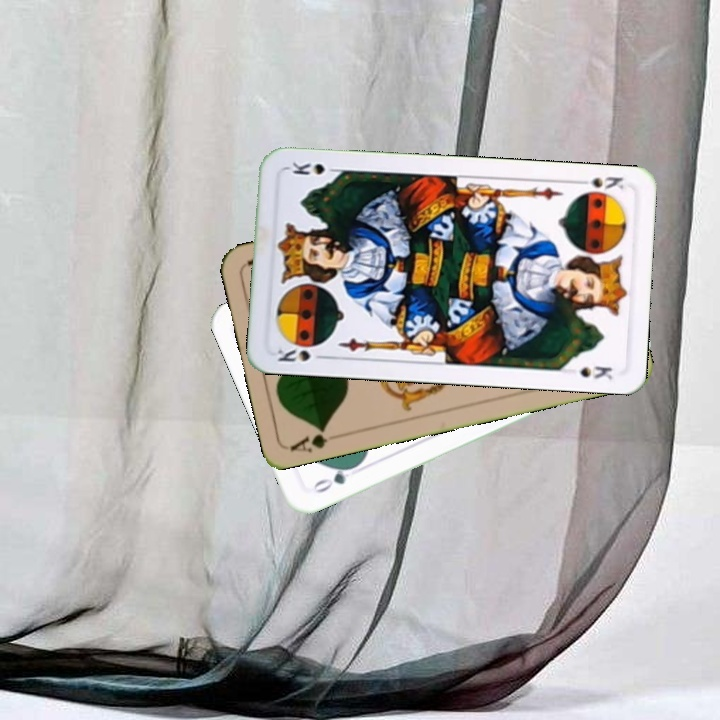GA: (287, 423, 330, 455)
GO: (307, 460, 361, 496)
SK: (273, 339, 330, 365), (572, 172, 626, 199)
